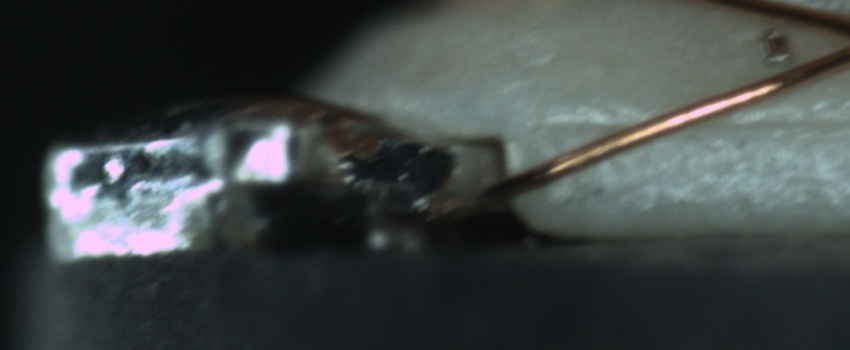DL: (547, 93, 850, 154)
